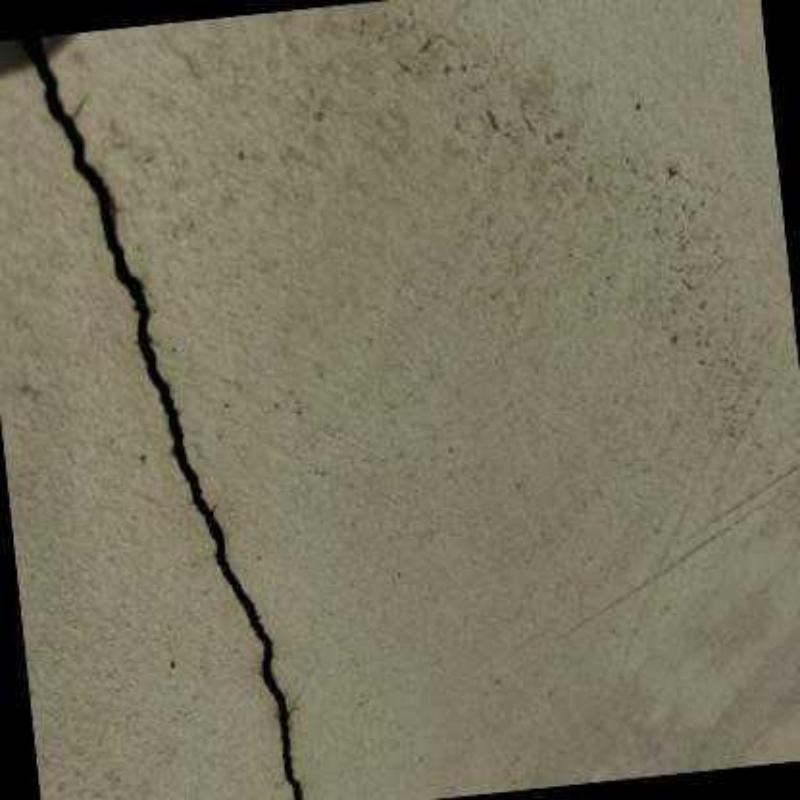pothole: (22, 36, 303, 800)
